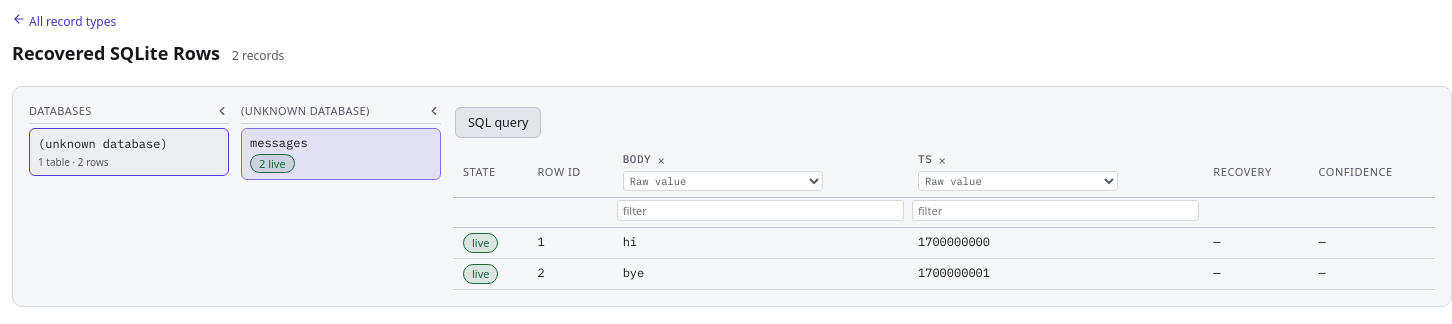
SqliteViewer power tools › decodes a column in place when interpreted as a Unix-seconds timestamp
The image size is (1452, 324).
Expected: the text "1700000000" is shown, [908, 228, 1203, 259]
// Interpret the `ts` column as Unix seconds.
Select "Unix (seconds)" in the dropdown named "Interpret ts as" at {"x": 1018, "y": 181}, box [918, 171, 1118, 191]
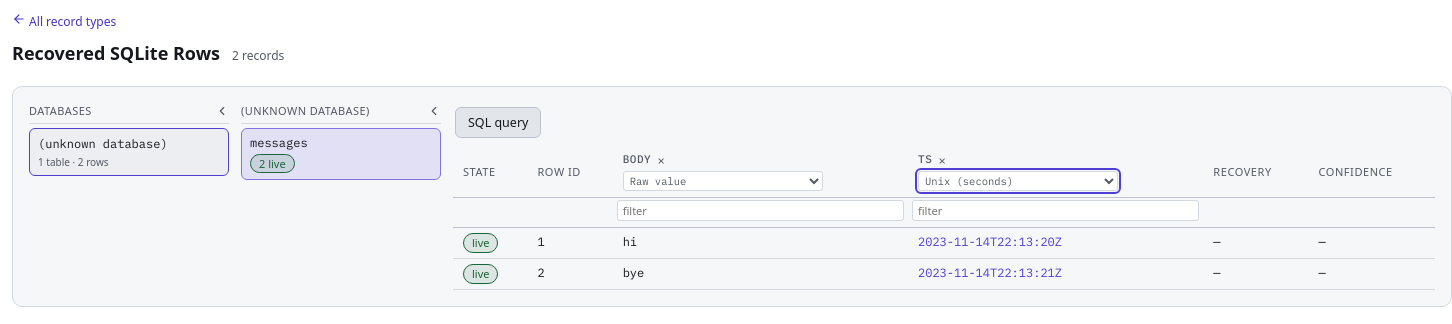
Result: the text "2023-11-14T22:13:20Z" is shown at [908, 228, 1203, 259]
Result: the text "1700000000" is gone
